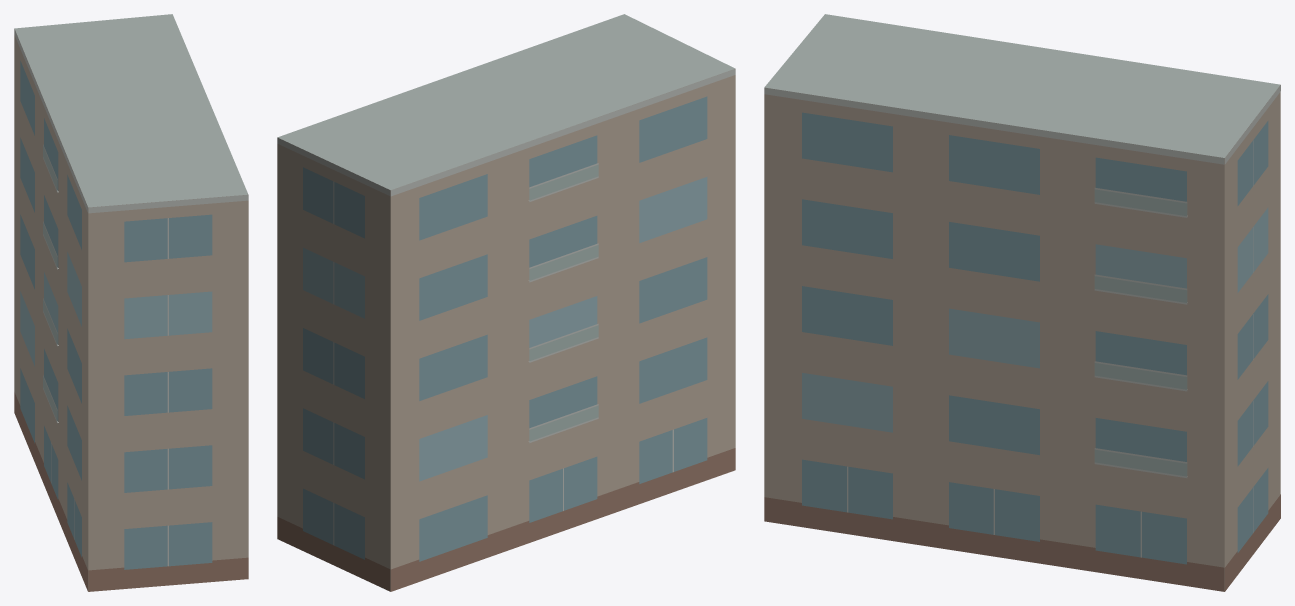
The model's file is survey-upis-32520155.glb.
3 views of the same model, side by side, from view 1: azimuth 30°, elevation 25°; view 2: azimuth 150°, elevation 25°; view 3: azimuth 270°, elevation 25° (orthographic). The views are drawn at different scales.
Visible parts, largest first — view 1: survey-upis-32520155.tmp; view 2: survey-upis-32520155.tmp; view 3: survey-upis-32520155.tmp.
Part boxes in pixels (x1,y1,x2,y2): survey-upis-32520155.tmp: (14,14,248,591); survey-upis-32520155.tmp: (277,14,735,591); survey-upis-32520155.tmp: (764,14,1280,591).
Size of the model in its own units: 11.26 by 15.8 by 17.06.
